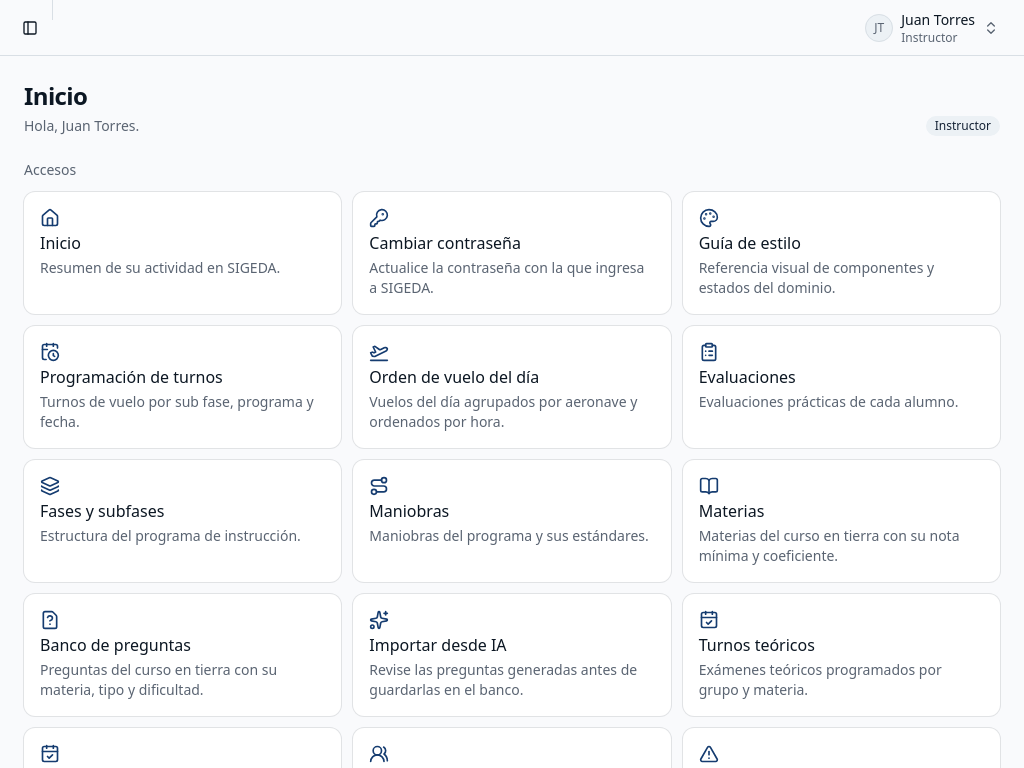
estructura de la aplicación › CA-SES-05 cerrar sesión invalida el refresh token en el servidor y vuelve a /login
What coordinates should you click on to do the following:
click the button with aria-label "Cuenta de Juan Torres"
I would click on:
 (932, 28)
Its box is [856, 8, 1008, 48].
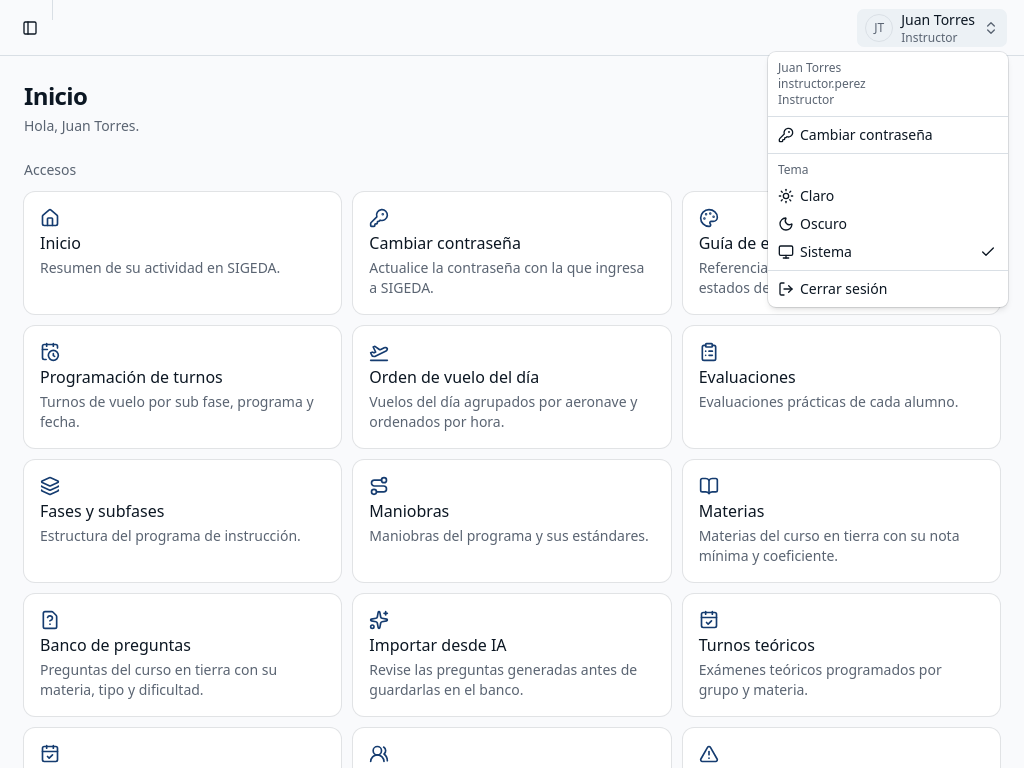
What coordinates should you click on to do the following:
click the menu item "Cerrar sesión"
I would click on:
 (833, 288)
Its box is [778, 279, 887, 298].
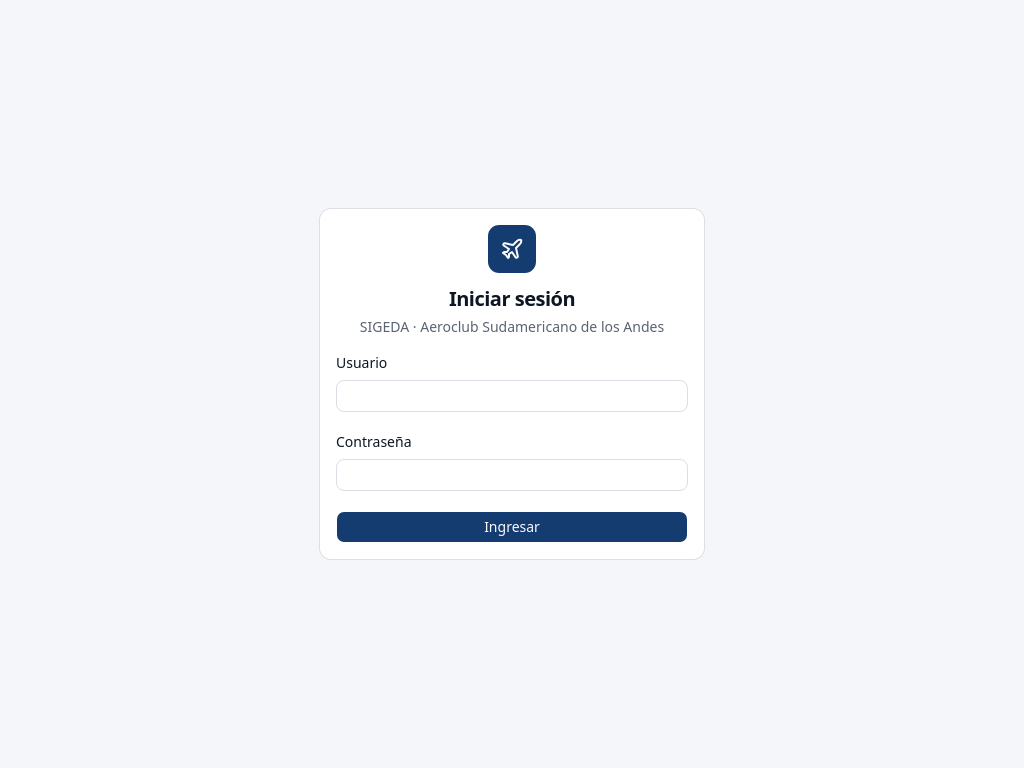
Expected: the heading "Iniciar sesión" is shown, [449, 285, 575, 312]
